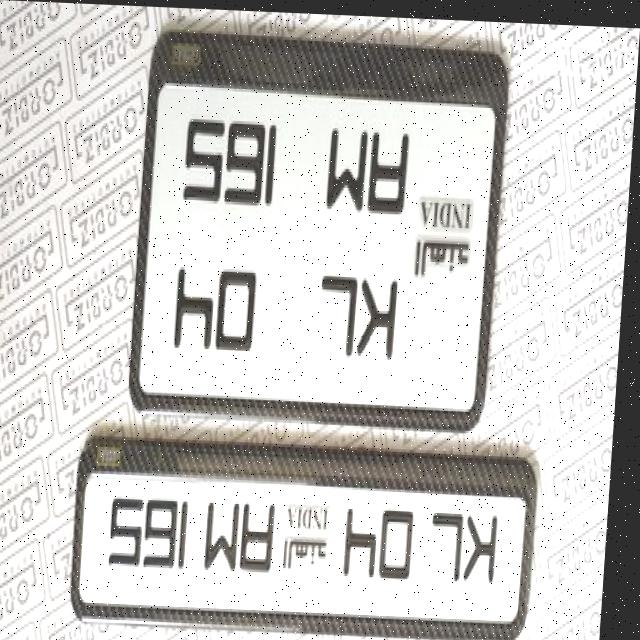plate: (130, 25, 515, 434), (74, 428, 549, 640)
